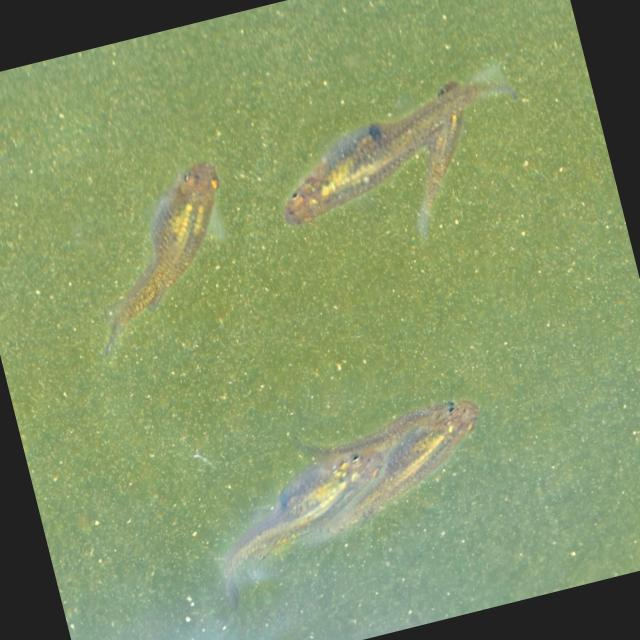Sivrisinek Baligi: (192, 387, 514, 598), (262, 58, 540, 234), (60, 148, 254, 354)
